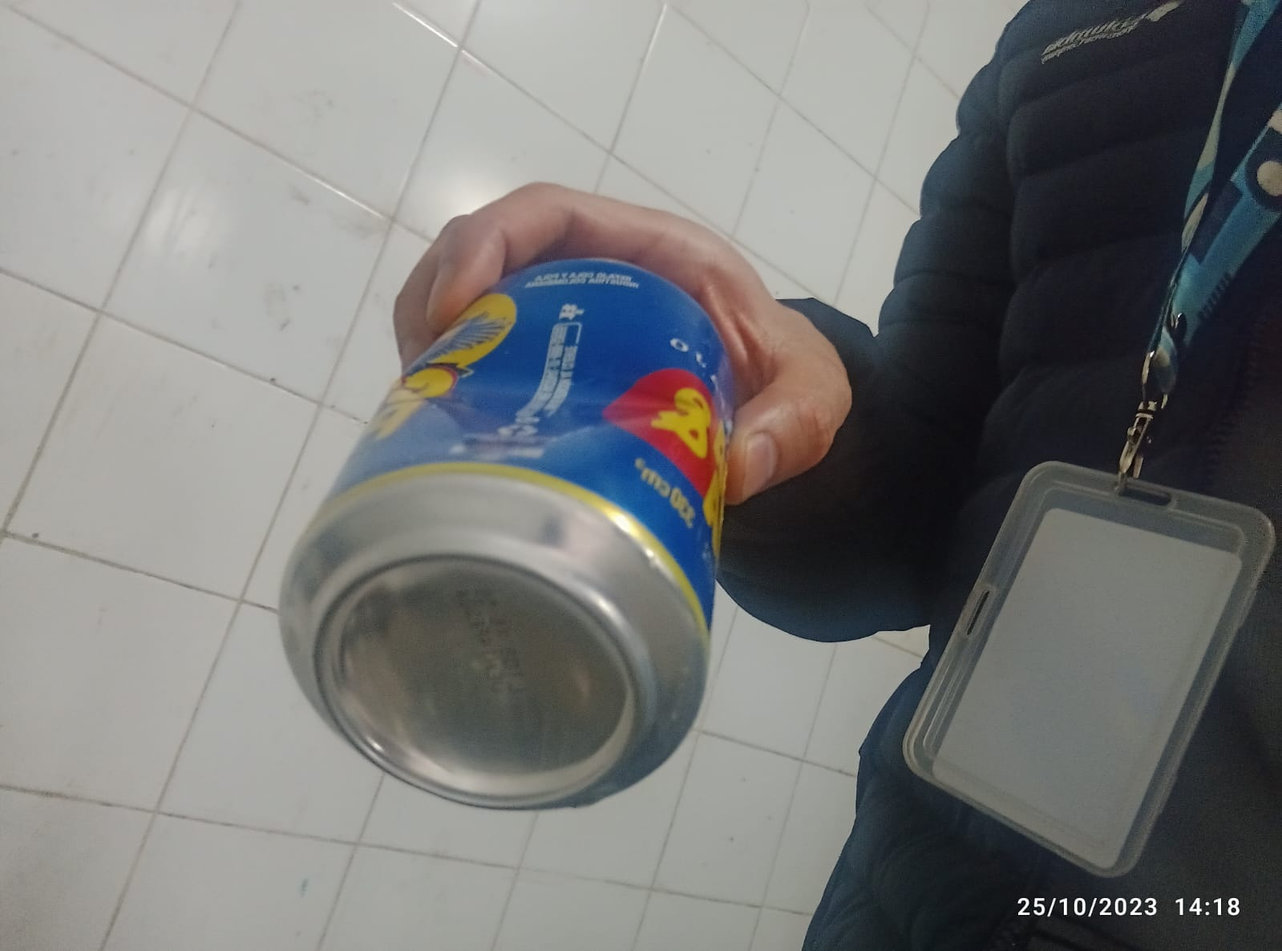Metal: (273, 256, 736, 813)
